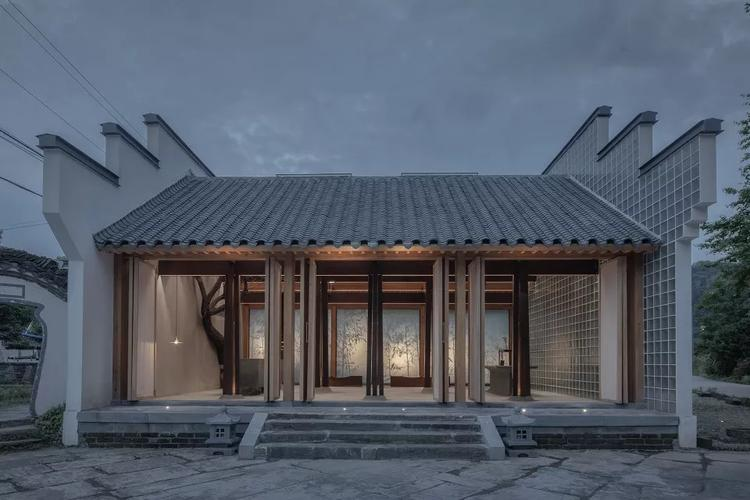buildings: (51, 79, 710, 430)
